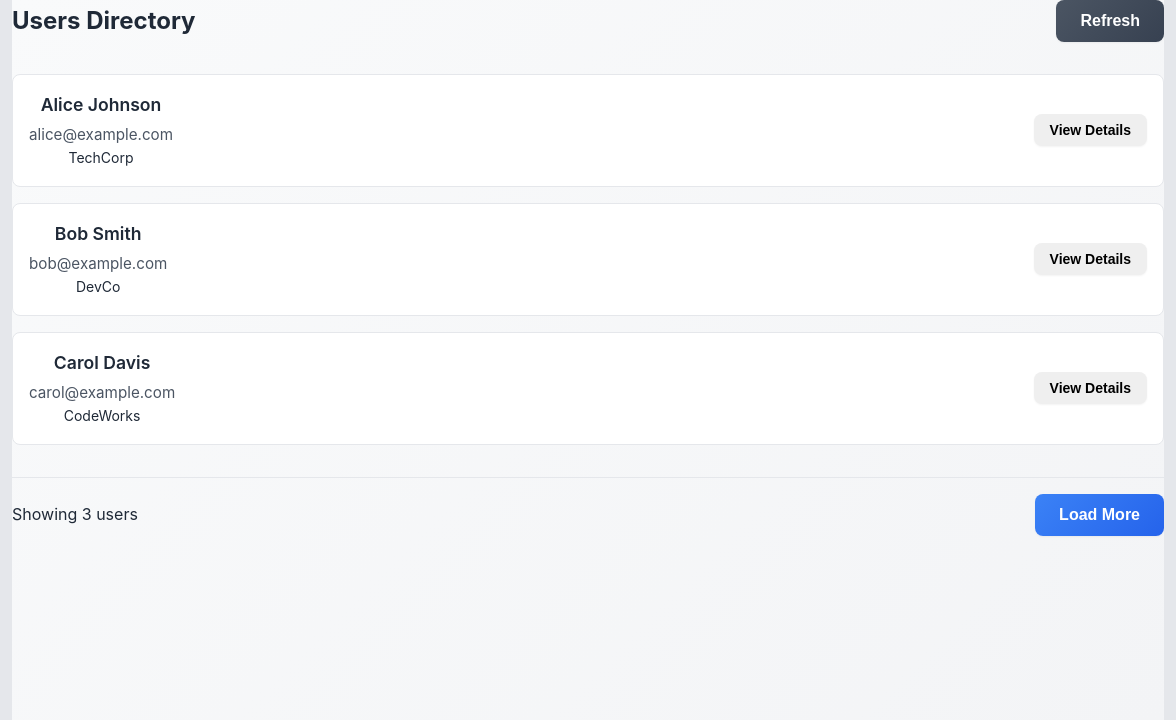
Lesson 2: AsyncLoader Component - Async Testing Mastery › Complex Async Testing Scenarios › uses waitFor for complex conditions
Check: the heading "Users Directory" is shown, box 12,2 -> 196,40
// Click load more
Click the button with test id "load-more-button": [1100, 514] box 1035,494 -> 1164,536
(page scrolled)
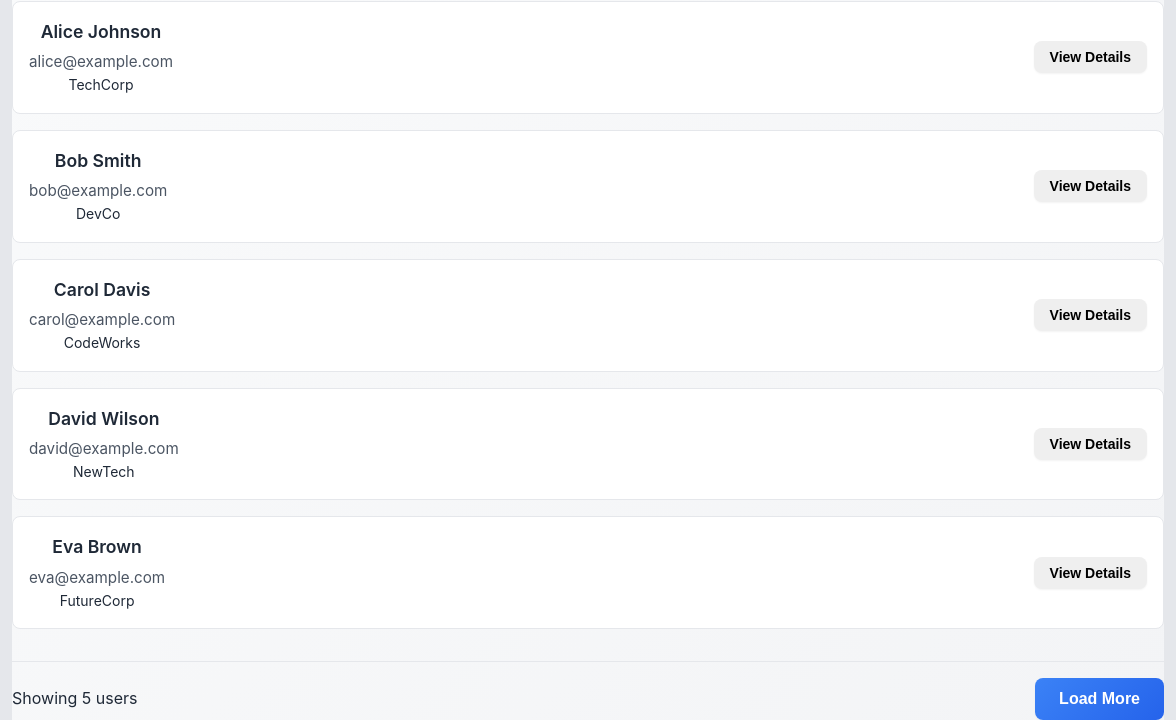
Check: the heading "David Wilson" is shown, box 48,408 -> 160,428
Check: the heading "Eva Brown" is shown, box 52,536 -> 142,557
Check: the text "Showing 5 users" is shown, box 12,686 -> 138,712
